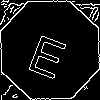E: (25, 25, 73, 80)
